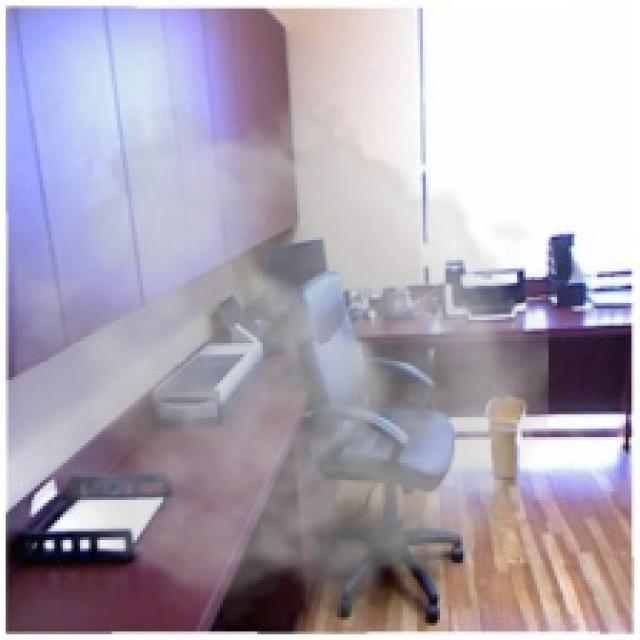smoke: (14, 86, 549, 634)
